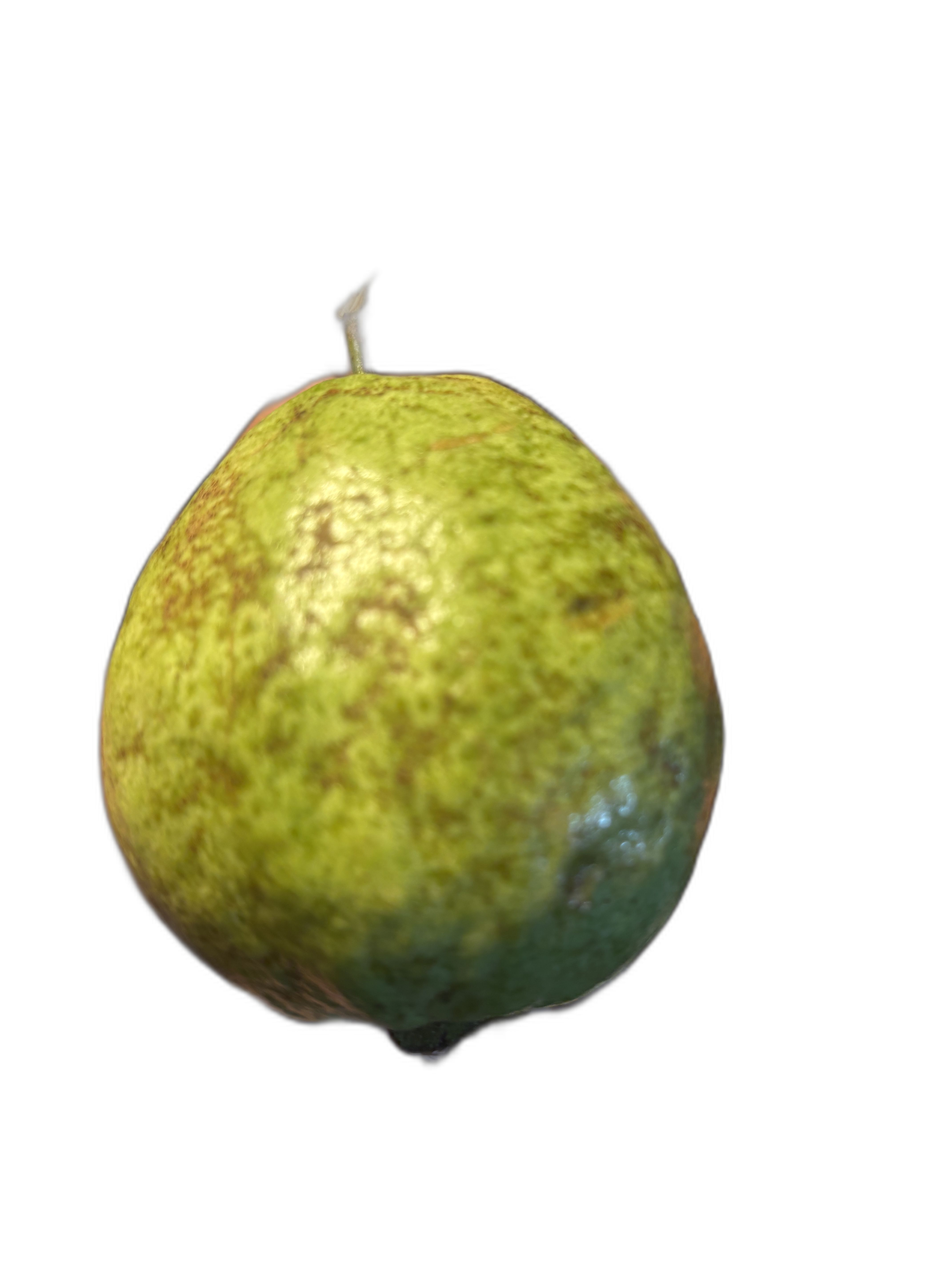guava: (121, 248, 746, 1266)
